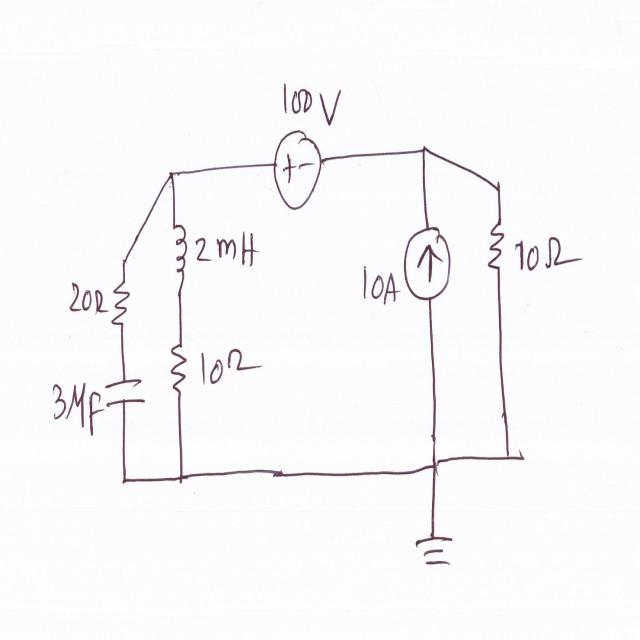capacitor: (102, 371, 151, 420)
current_source: (400, 215, 454, 306)
ground: (411, 527, 460, 575)
inductor: (169, 209, 194, 298)
resistor: (484, 206, 510, 282), (108, 265, 135, 333), (166, 334, 192, 402)
voltage_source: (268, 121, 325, 218)
